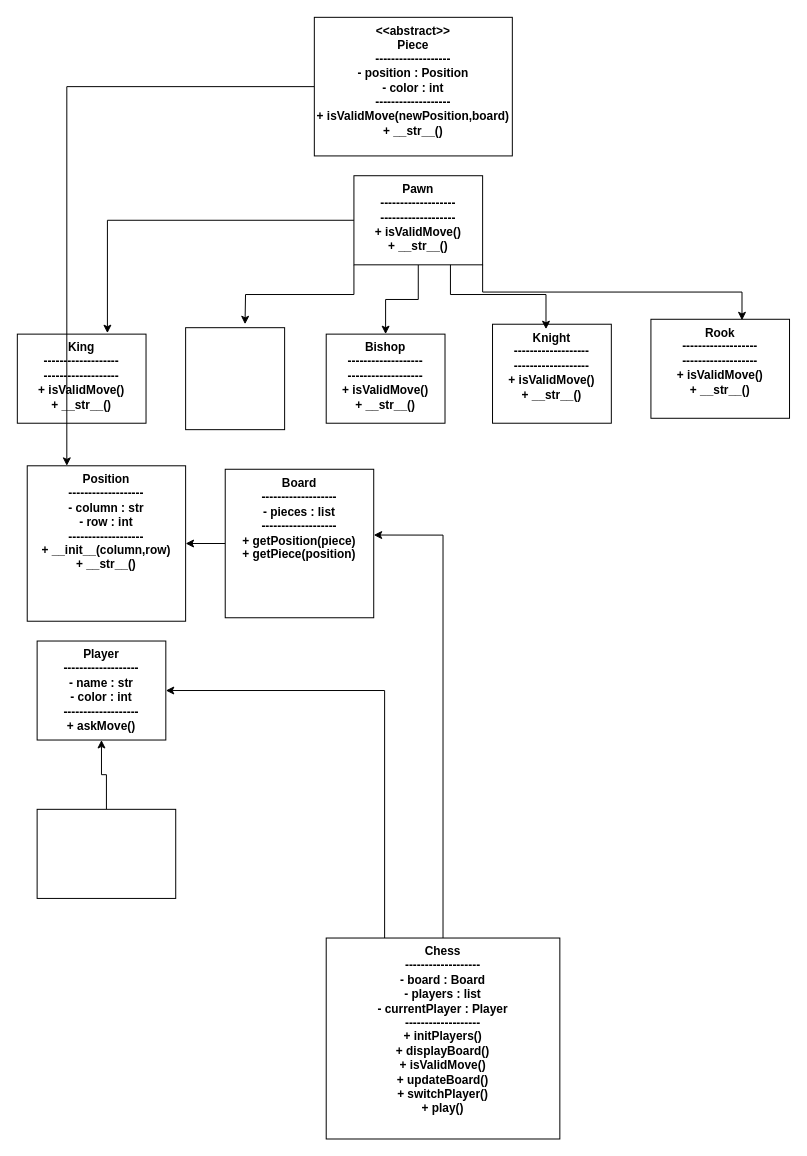
This 807x1156 diagram has some shape labels left out. The shapes that lost their labels are listed below. From the top down, each one's centre as x and y in pixels, then its label:
At point (235, 378): "Queen ------------------- ------------------- + isValidMove() + __str__()".
At point (106, 853): "AIPlayer ------------------- ------------------- + askMove()".
